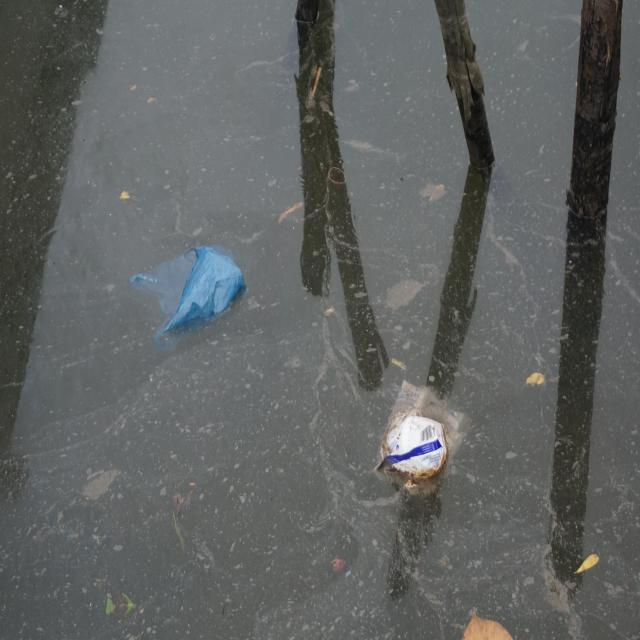Bungkus Makanan: (377, 367, 465, 496)
Kantong Plastik: (130, 237, 251, 357)
